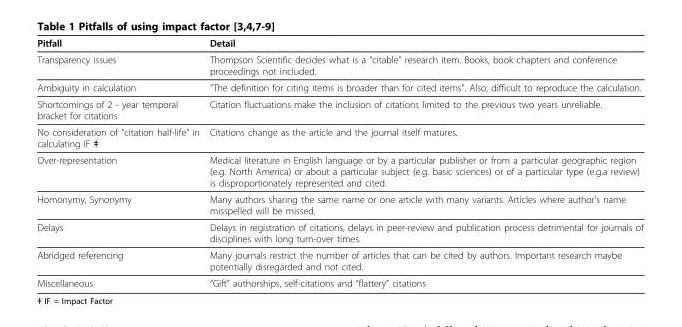table: (36, 36, 642, 288)
table column: (203, 36, 642, 288), (36, 36, 203, 288)
table column header: (36, 36, 642, 50)
table row: (36, 151, 642, 190), (36, 50, 642, 78), (36, 95, 642, 123), (36, 123, 642, 151), (36, 190, 642, 218), (36, 218, 642, 246), (36, 246, 642, 274), (36, 78, 642, 95), (36, 36, 642, 50), (36, 274, 642, 288)
